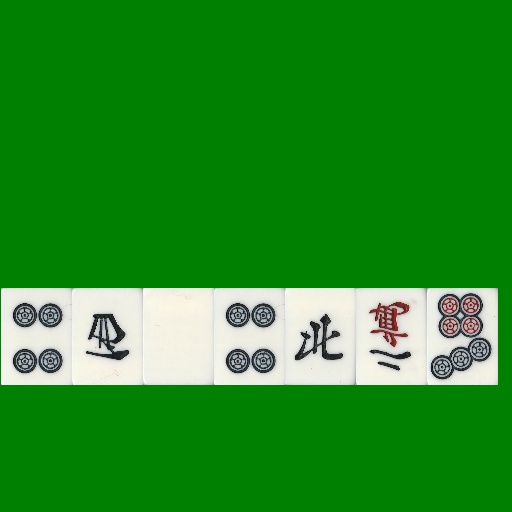2m: (356, 288, 427, 385)
4p: (1, 288, 72, 385), (214, 288, 285, 385)
7p: (427, 288, 498, 385)
north: (285, 288, 356, 385)
west: (72, 288, 143, 385)
white: (143, 288, 214, 385)
